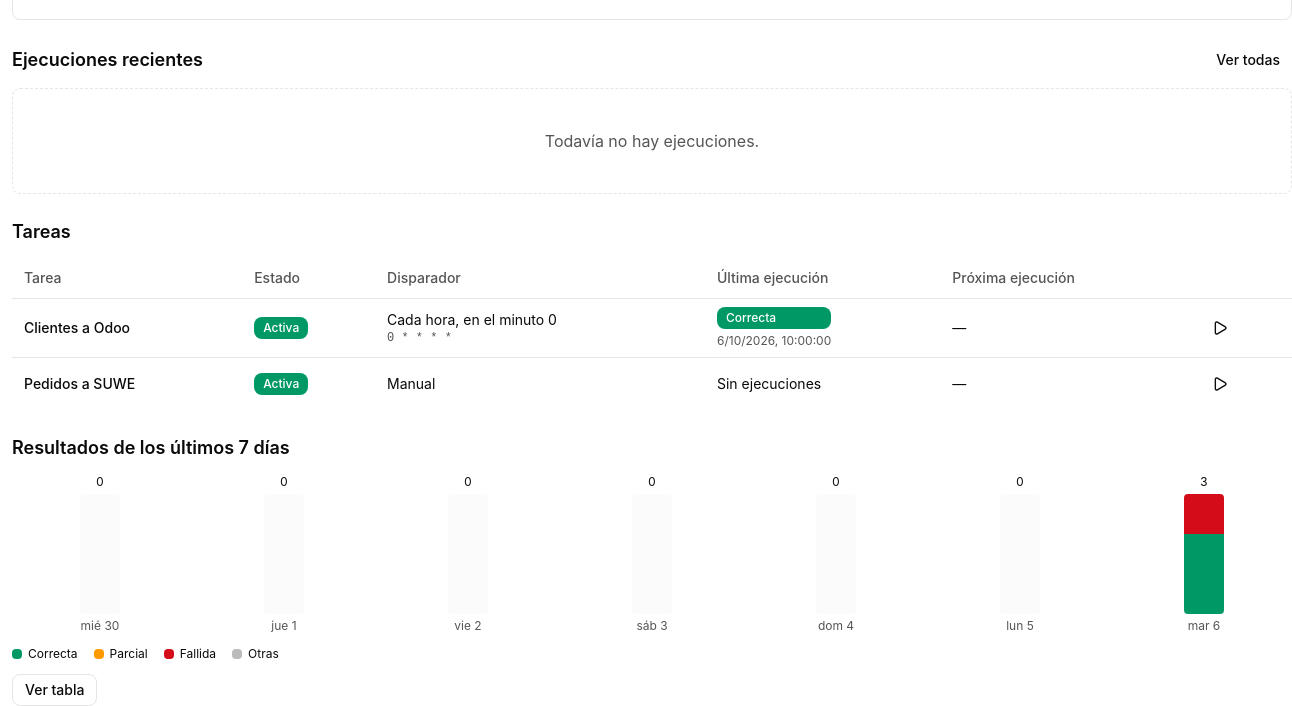
Test: DashboardPage › draws the last 7 days with a text alternative and a table fallback
(page scrolled)
Click the button "Ver tabla". click: [55, 690]
box: [12,674,98,705]
(page scrolled)
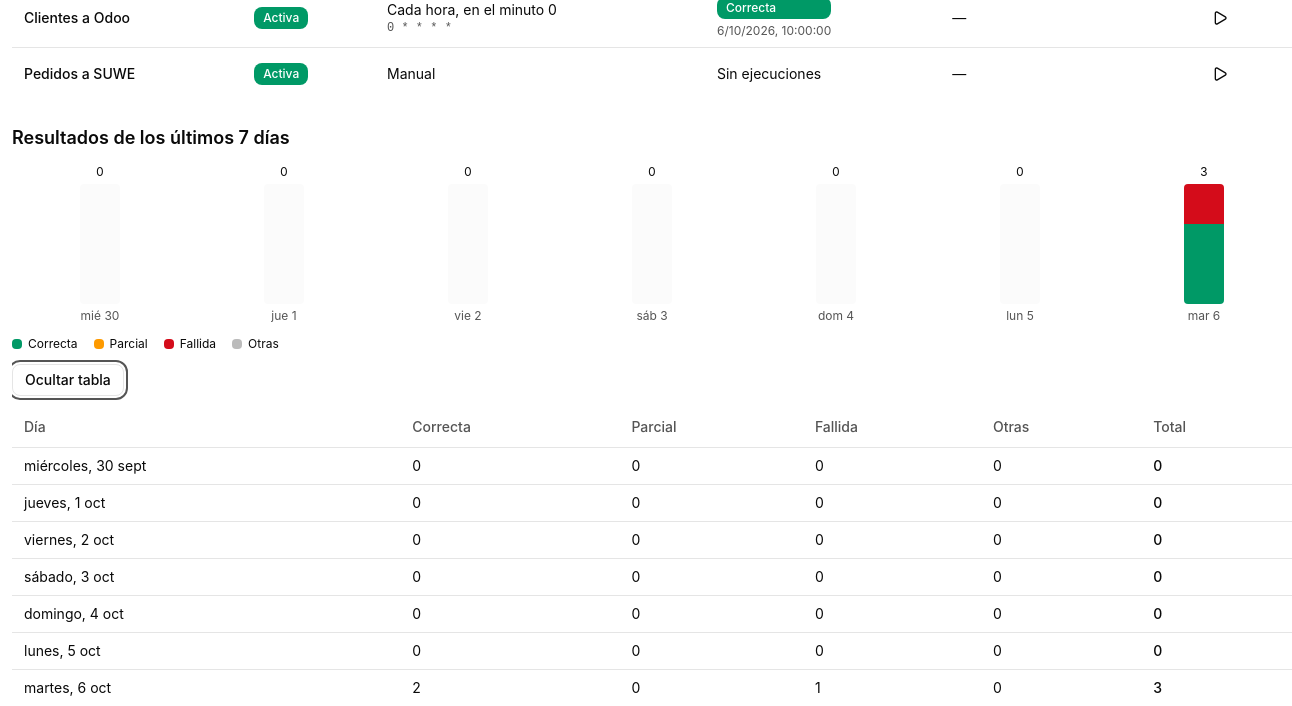
expect the row "martes, 6 oct 2 0 1 0 3" is shown: met, box [12,670,1291,705]
